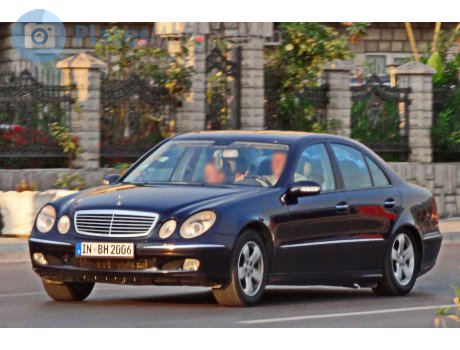License Plates: (80, 242, 135, 257)
